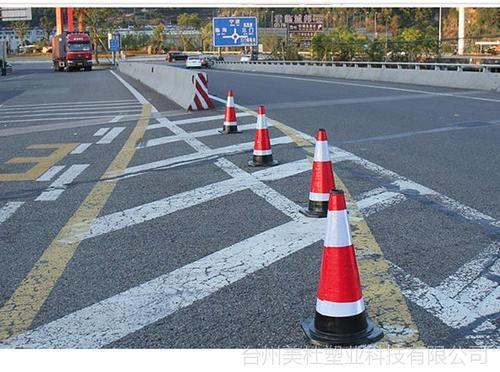cone_barrel: (304, 190, 378, 341), (302, 129, 338, 219), (247, 102, 275, 167), (218, 87, 240, 134)
